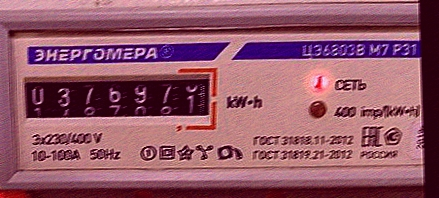0: (29, 83, 46, 104)
1: (185, 92, 197, 113)
3: (56, 84, 71, 107)
6: (108, 80, 122, 102)
7: (82, 80, 96, 104), (159, 80, 173, 103)
9: (133, 81, 147, 103)
screen: (17, 63, 222, 137)
